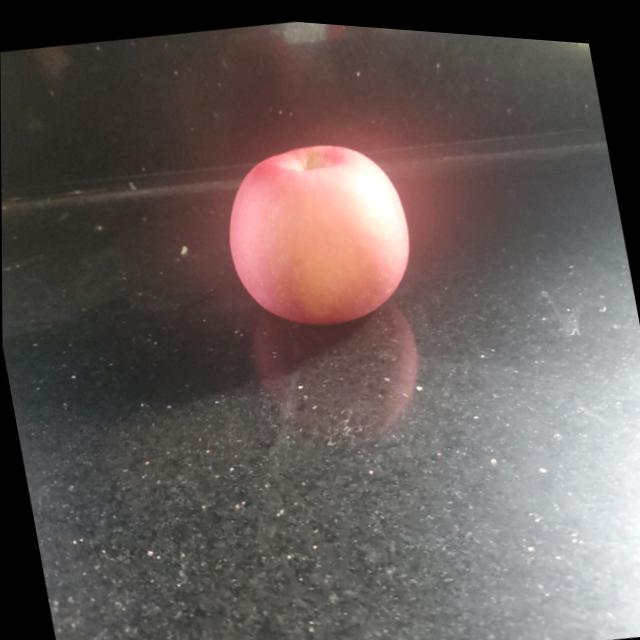apple: (217, 116, 432, 338)
